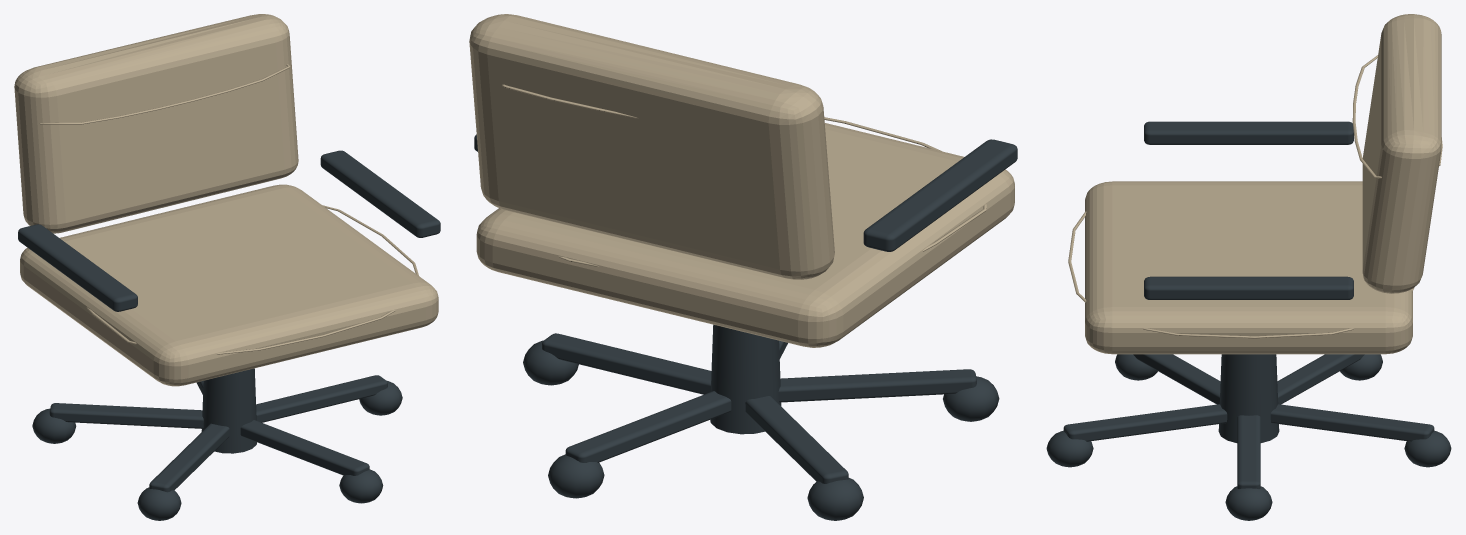
File: office-task-chair.glb
3 renders of one model, left to right at view 1: azimuth 30°, elevation 25°; view 2: azimuth 150°, elevation 25°; view 3: azimuth 270°, elevation 25°, orthographic. The views are drawn at different scales.
Visible parts, largest first — view 1: tailored-cushion, part; view 2: tailored-cushion, part; view 3: tailored-cushion, part.
Part boxes in pixels (x1,y1,x2,y2): tailored-cushion: (14, 14, 438, 386); part: (18, 150, 440, 520); tailored-cushion: (469, 14, 1014, 347); part: (474, 134, 1017, 520); tailored-cushion: (1068, 14, 1442, 354); part: (1046, 121, 1451, 520).
Bounding box in the file's own units: 1 × 1 × 1.
